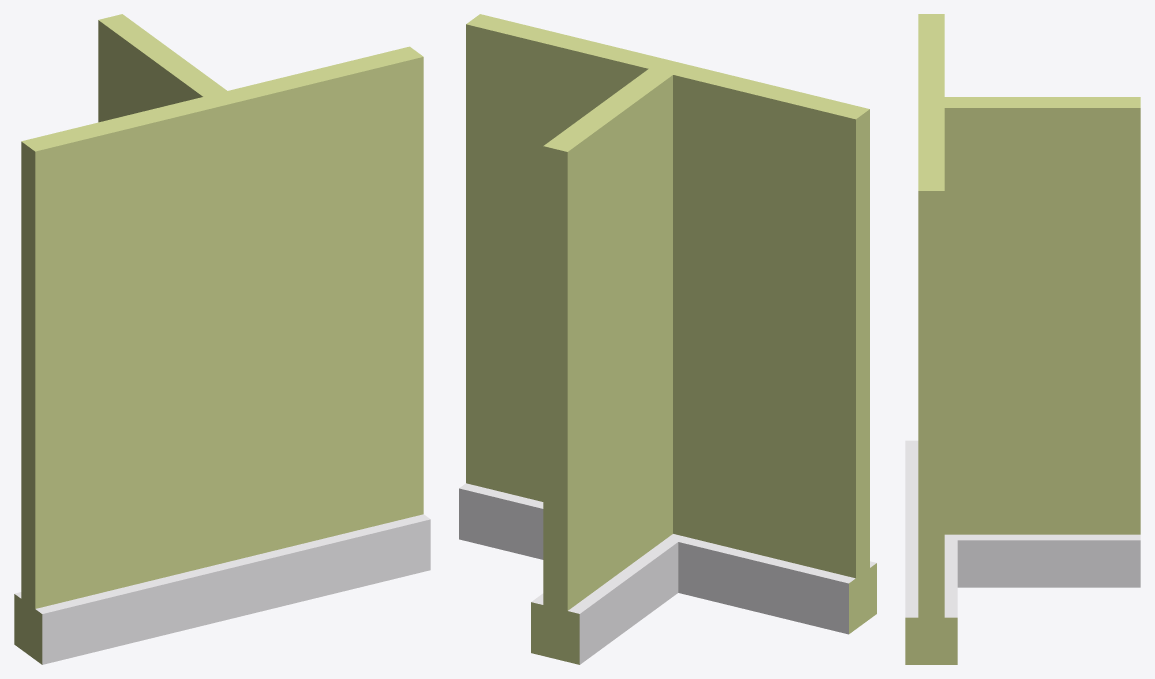
File: TWallInsideAll.glb
3 views of the same model, side by side, from view 1: azimuth 30°, elevation 25°; view 2: azimuth 150°, elevation 25°; view 3: azimuth 270°, elevation 25° (orthographic). The views are drawn at different scales.
Visible parts, largest first — view 1: TWallInsideAll; view 2: TWallInsideAll; view 3: TWallInsideAll.
Part boxes in pixels (x1=…): TWallInsideAll: x1=14, y1=14, x2=430, y2=664; TWallInsideAll: x1=459, y1=14, x2=876, y2=664; TWallInsideAll: x1=905, y1=14, x2=1140, y2=664.
Bounding box in the file's own units: 32 × 40 × 18.
